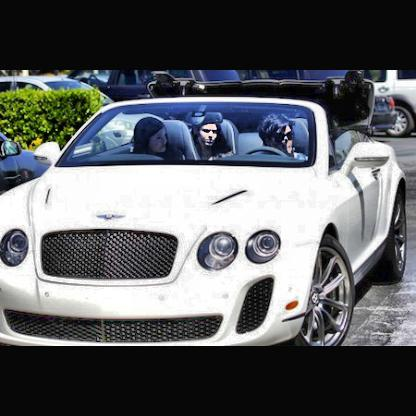Bentley Continental Supersports Conv- Convertible 2012: (2, 99, 410, 346)
